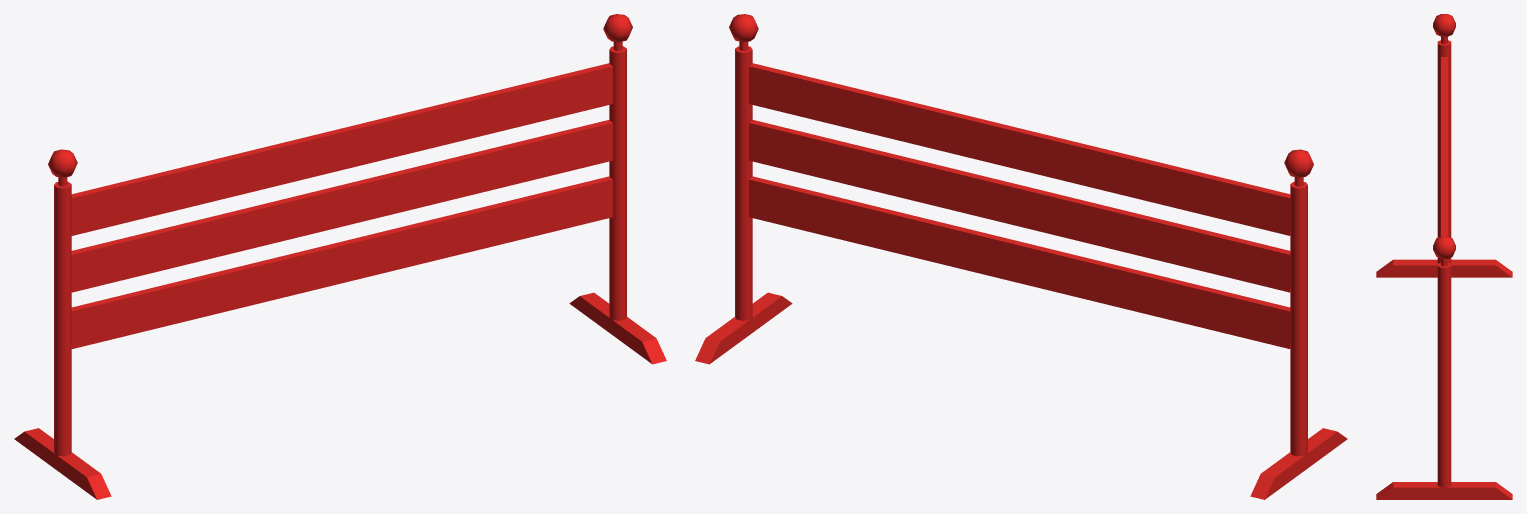
File: barrier.fbx
3 views of the same model, side by side, from view 1: azimuth 30°, elevation 25°; view 2: azimuth 150°, elevation 25°; view 3: azimuth 270°, elevation 25° (orthographic). The views are drawn at different scales.
Parts seen in each view (by area): view 1: Barrier_free; view 2: Barrier_free; view 3: Barrier_free.
Boxes of the visible parts, x1,y1,x2,y2 form: Barrier_free: [14, 14, 666, 499]; Barrier_free: [695, 14, 1347, 499]; Barrier_free: [1376, 14, 1512, 499].
Bounding box in the file's own units: 321 × 168 × 80.
